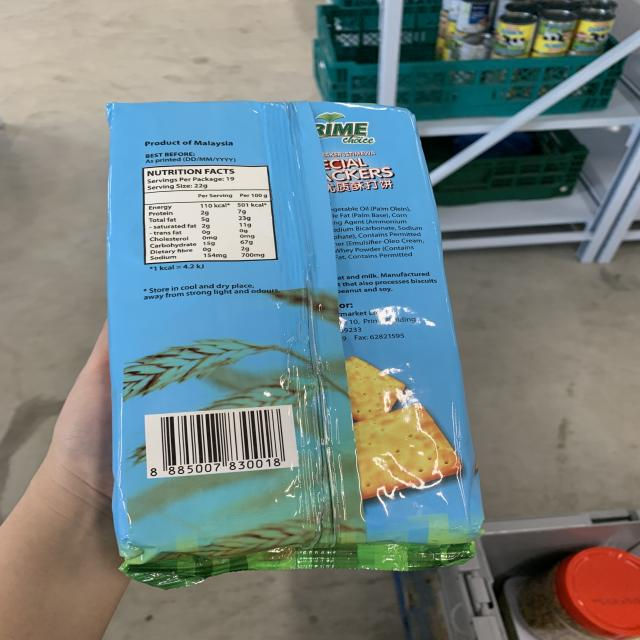object_name: (110, 103, 465, 555)
